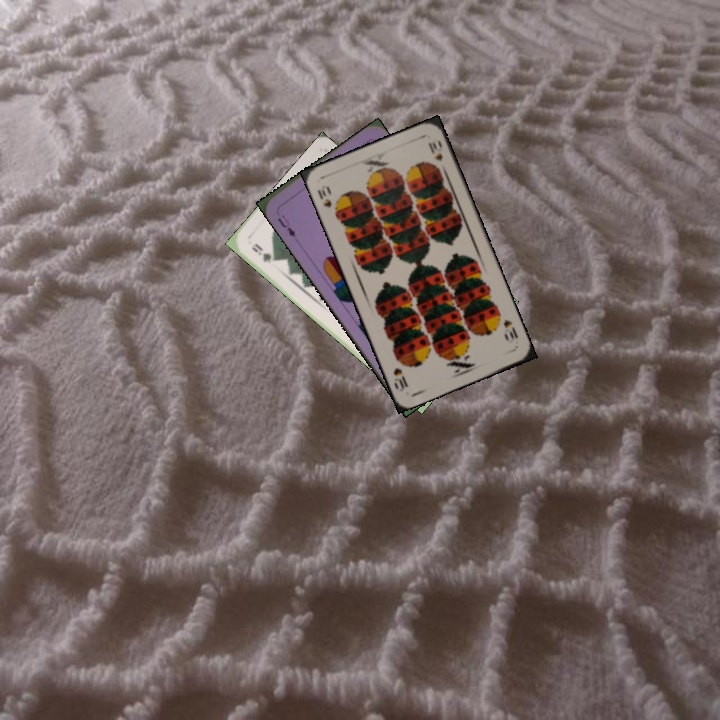EU: (274, 210, 298, 240)
G9: (247, 239, 279, 266)
S10: (313, 181, 334, 211), (499, 316, 520, 342)
